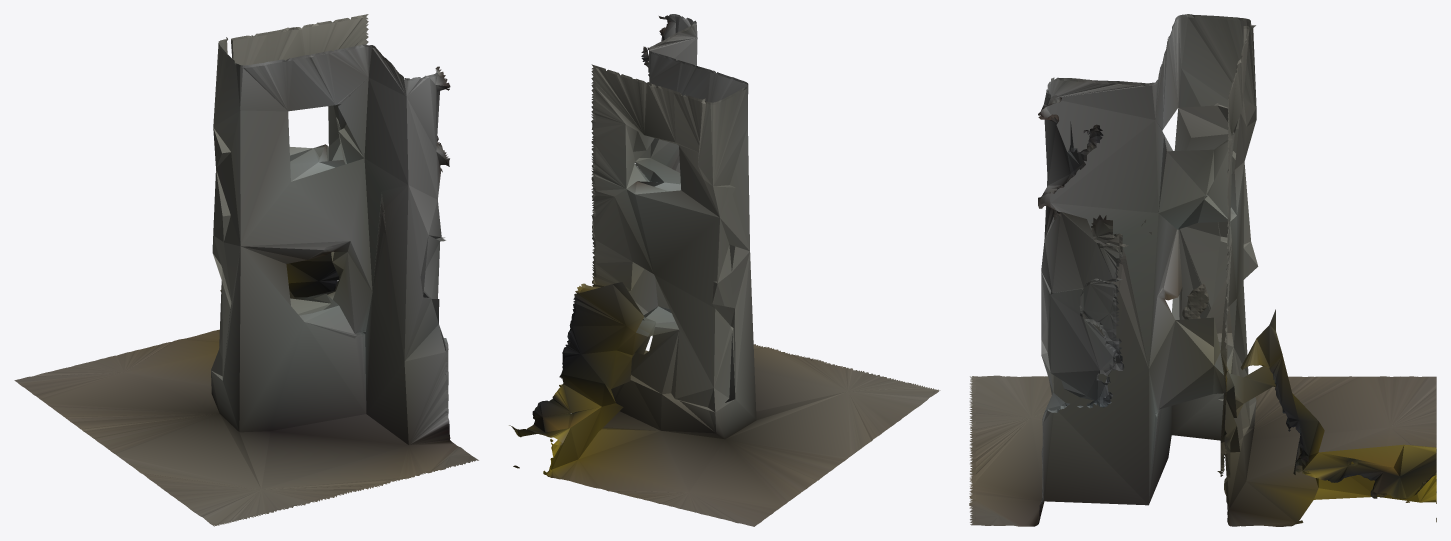
Rendered from coarse.glb.
3 renders of one model, left to right at view 1: azimuth 30°, elevation 25°; view 2: azimuth 150°, elevation 25°; view 3: azimuth 270°, elevation 25°, orthographic. The views are drawn at different scales.
Bounding box in the file's own units: 0.9672 × 1.29 × 1.27.
